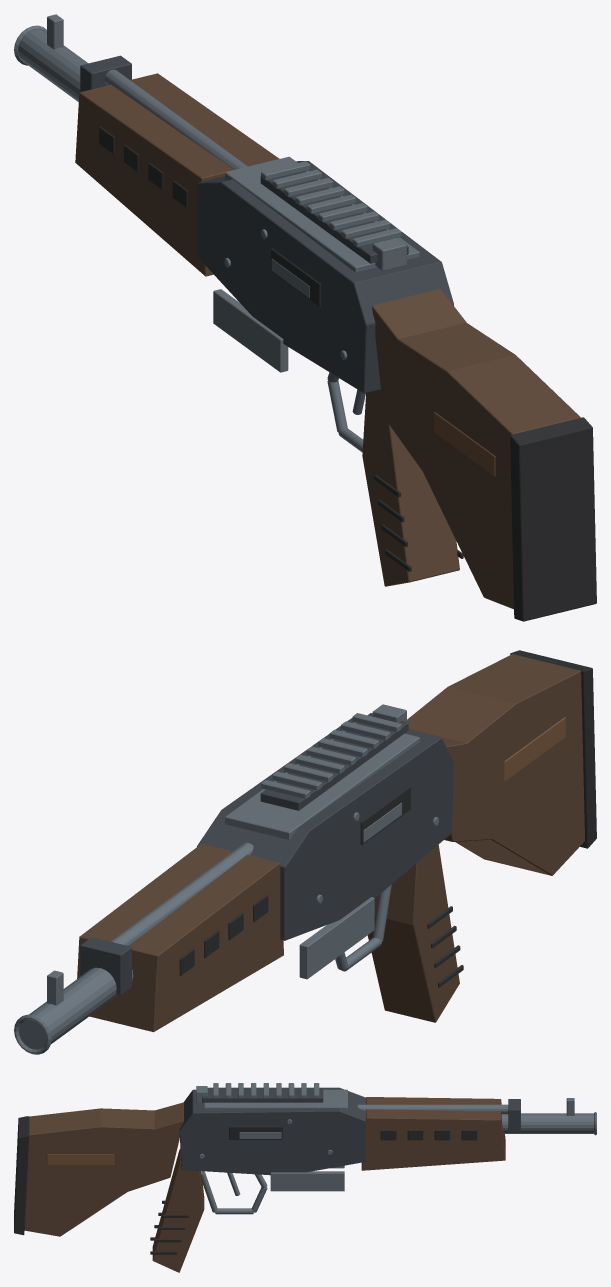
File: Firearm_801.fbx
3 views of the same model, one above another, from view 1: azimuth 30°, elevation 25°; view 2: azimuth 150°, elevation 25°; view 3: azimuth 270°, elevation 25° (orthographic). The views are drawn at different scales.
Visible parts, largest first — view 1: Firearm_801; view 2: Firearm_801; view 3: Firearm_801.
Part boxes in pixels (x1,y1,x2,y2): Firearm_801: (14,14,596,621); Firearm_801: (14,650,596,1054); Firearm_801: (14,1083,596,1272).
Size of the model in its own units: 0.134 by 0.4346 by 1.3.
